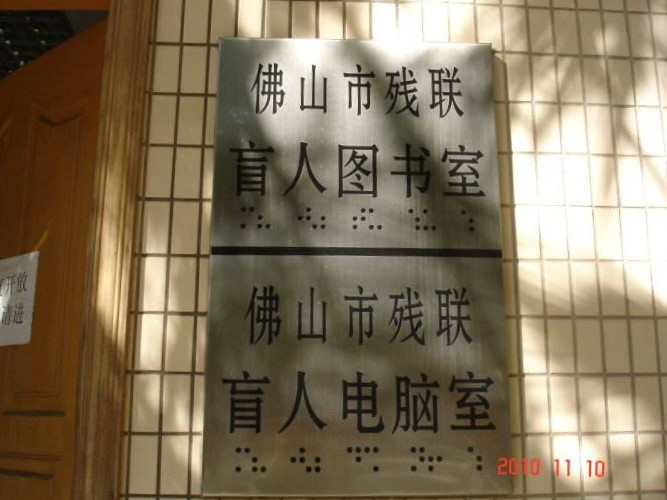Braille: (363, 446, 380, 473), (467, 446, 484, 472), (346, 446, 362, 473), (251, 446, 267, 473), (289, 447, 305, 473), (235, 446, 250, 473), (427, 447, 443, 472), (305, 448, 321, 473), (410, 446, 425, 472), (312, 206, 327, 230), (422, 207, 437, 231), (240, 206, 255, 229), (257, 206, 272, 229), (368, 208, 383, 231), (297, 207, 312, 229), (407, 208, 421, 231), (460, 209, 474, 232), (352, 208, 366, 230)
